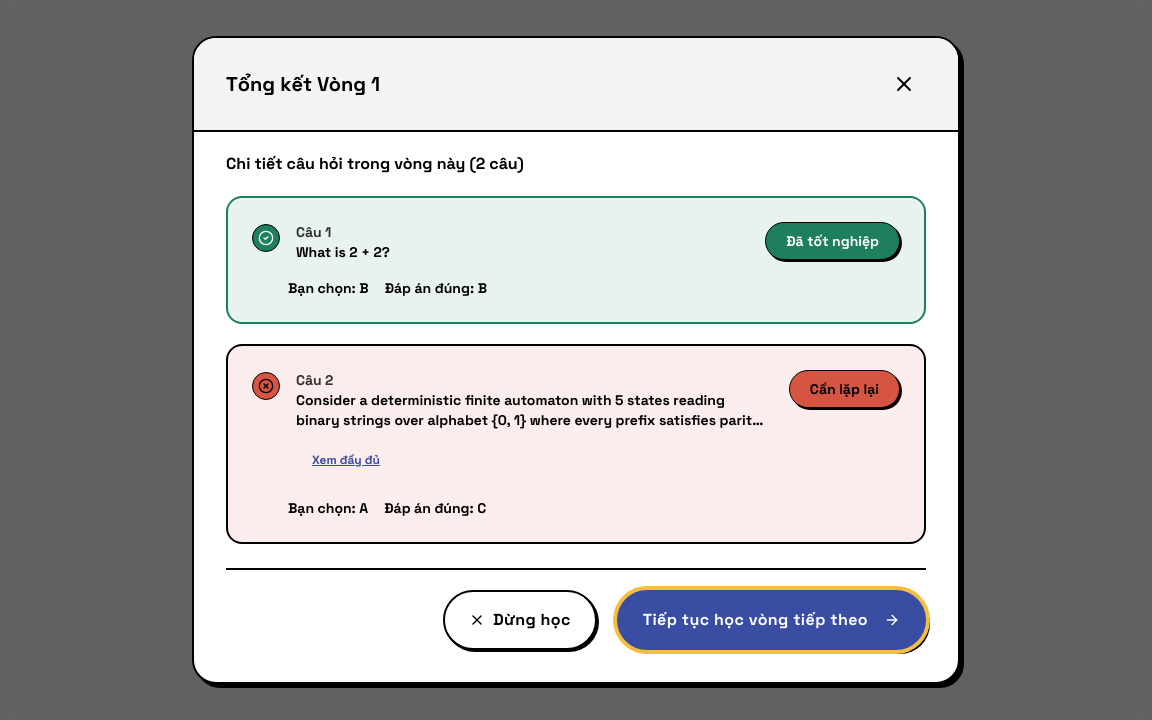
Test: LearnRoundSummaryModal › renders question audit gallery items, active/waiting counts, and toggles truncated stem expansion
The image size is (1152, 720).
(page scrolled)
Expected: the text "What is 2 + 2?" is shown, [296,243,390,261]
Expected: the text "Đã tốt nghiệp" is shown, [765,222,900,260]
Click the button "Xem đầy đủ": (346, 460) [296,438,396,482]
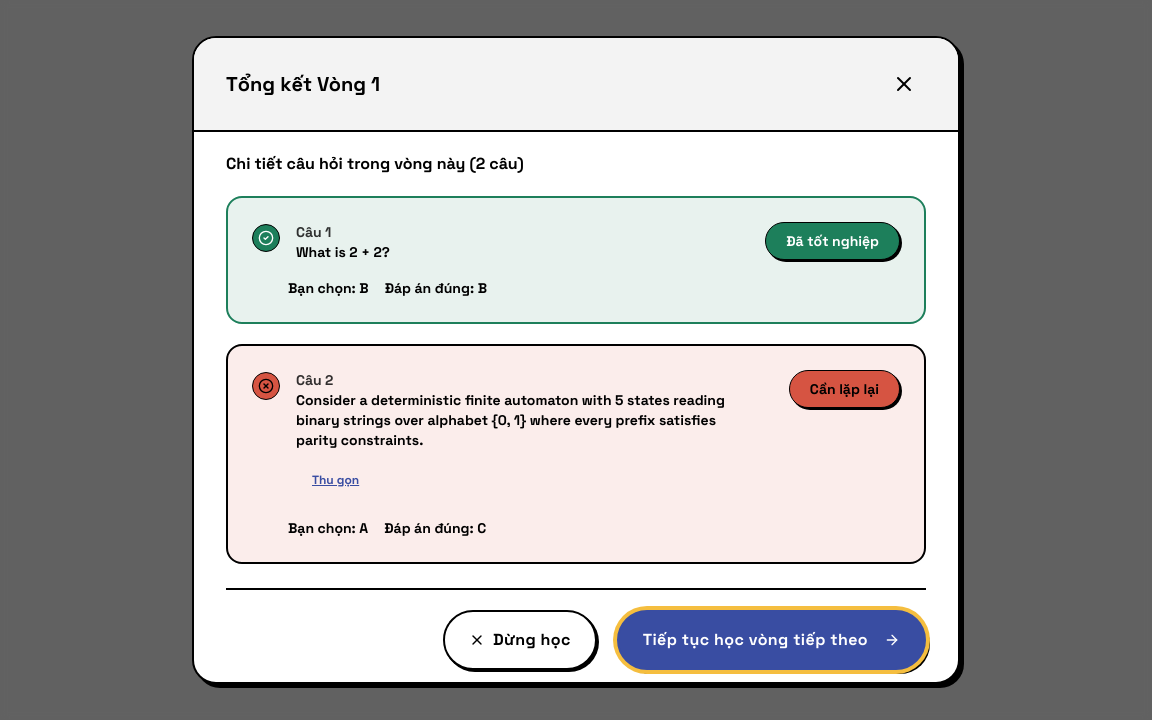
Now the button "Thu gọn" is shown, box [296,458,375,502]
